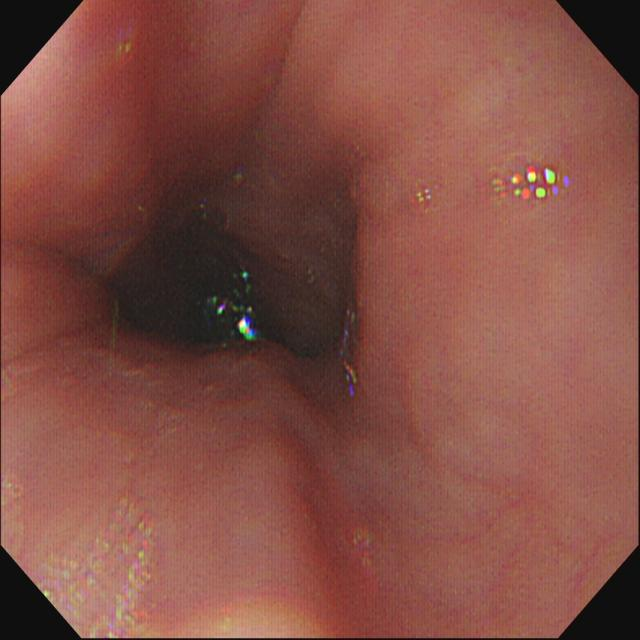E: (110, 188, 333, 378)
T: (43, 500, 150, 640)
U: (488, 164, 566, 203), (215, 299, 257, 343)
